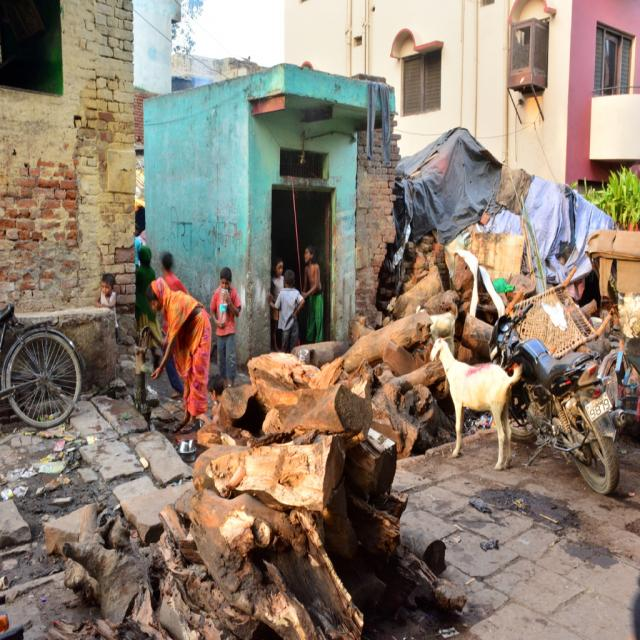Goat: (430, 336, 523, 470)
